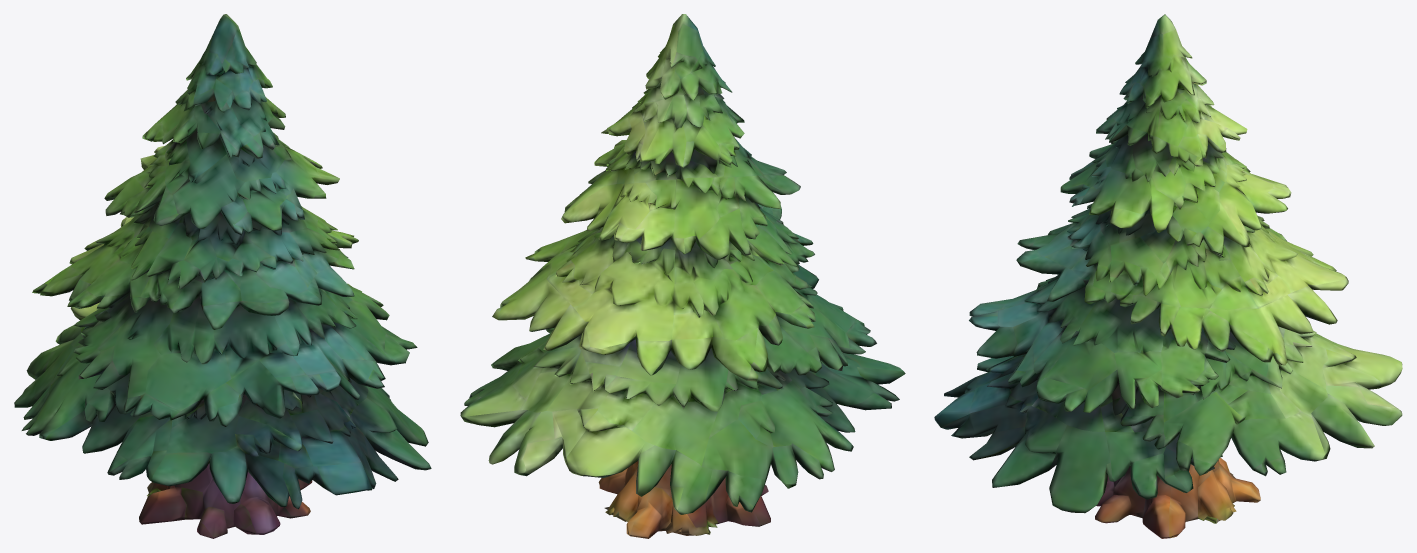
File: pine-mid.glb
3 renders of one model, left to right at view 1: azimuth 30°, elevation 25°; view 2: azimuth 150°, elevation 25°; view 3: azimuth 270°, elevation 25°, orthographic.
Visible parts, largest first — view 1: tripo_node_1e5d5114-8726-4cf8-ba44-4395ba477c9d; view 2: tripo_node_1e5d5114-8726-4cf8-ba44-4395ba477c9d; view 3: tripo_node_1e5d5114-8726-4cf8-ba44-4395ba477c9d.
Boxes of the visible parts, x1,y1,x2,y2 form: tripo_node_1e5d5114-8726-4cf8-ba44-4395ba477c9d: (14,14,431,538); tripo_node_1e5d5114-8726-4cf8-ba44-4395ba477c9d: (460,14,905,538); tripo_node_1e5d5114-8726-4cf8-ba44-4395ba477c9d: (934,14,1402,538).
Bounding box in the file's own units: 0.7507 × 0.9974 × 0.8741.
1 material, 1 textured.
